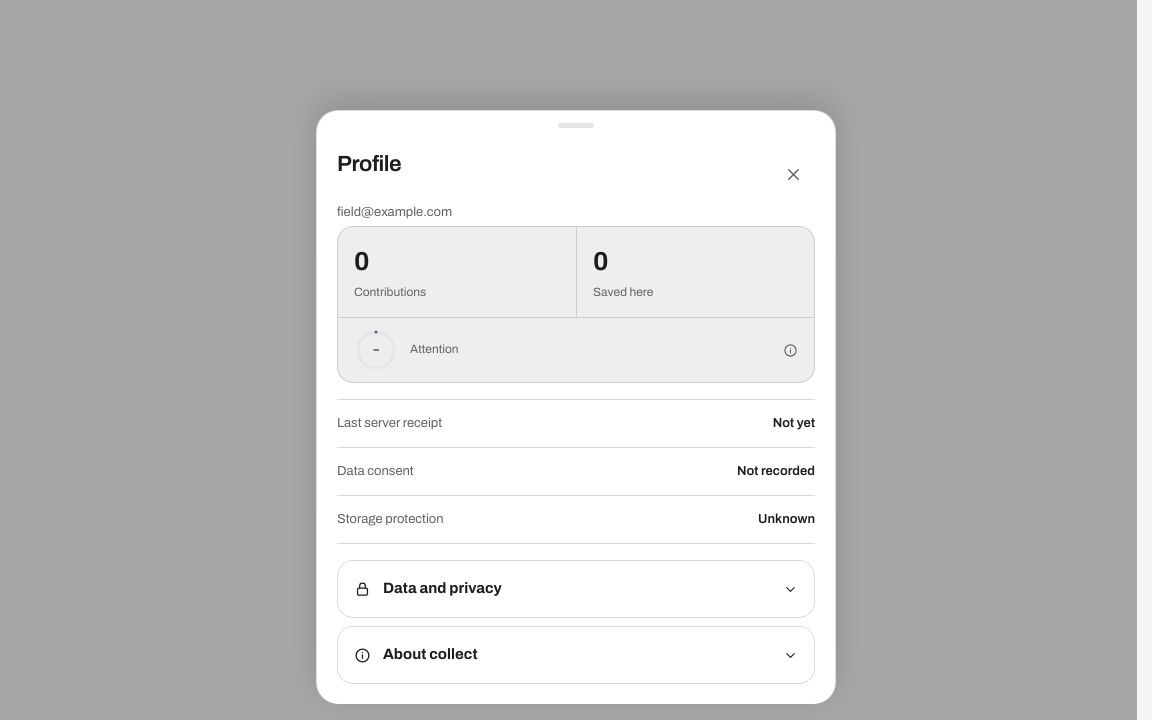
Scenario: low-friction primary actions › keeps app version and feedback inside the profile hierarchy
The image size is (1152, 720).
Click the 3rd heading "About collect" at (430, 654), box left=354, top=646, right=798, bottom=664
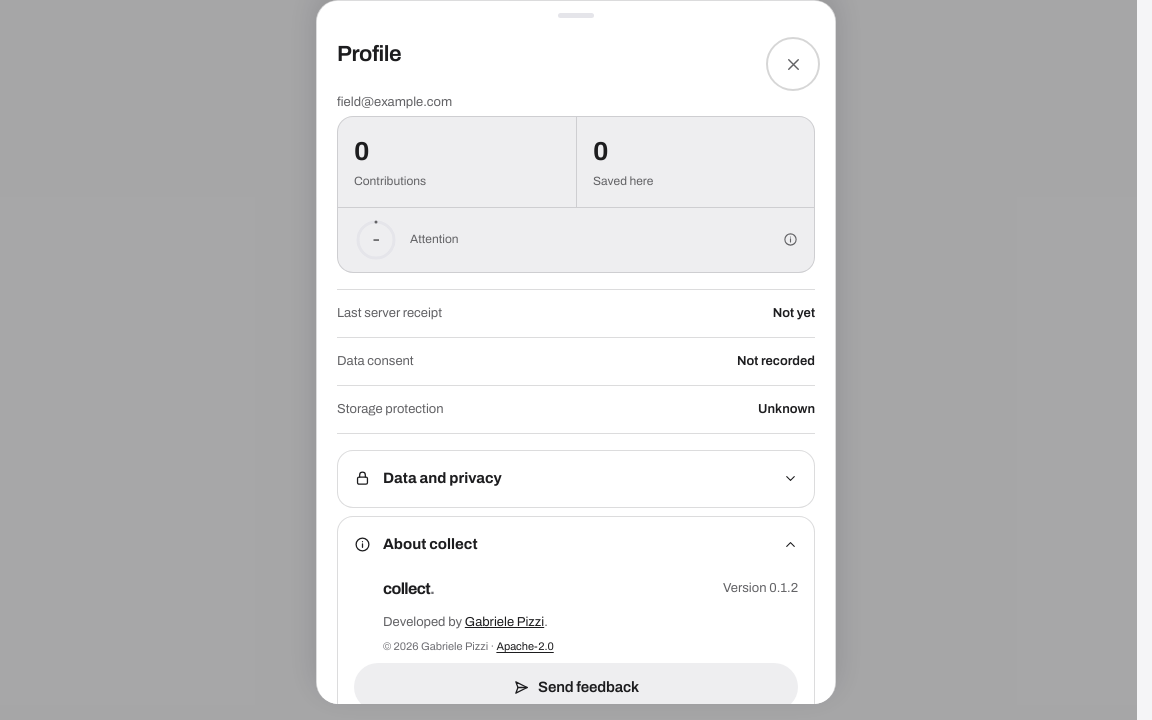
Now the text "Version 0.1.2" in the row of "collect" is shown, box left=723, top=579, right=798, bottom=598
